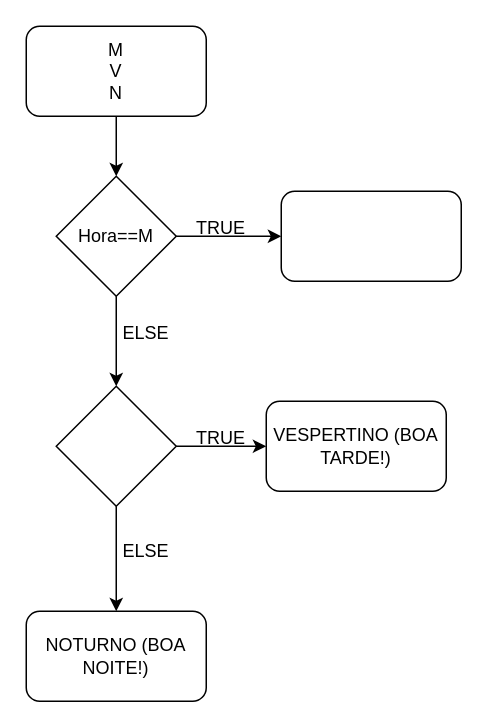
Image size: 488x728. Some labels were removed from this diagram. Here are the shapes that lost their labels. From the top down, the box of each, then its label:
(280, 190, 461, 281): MATUTINO (BOM DIA!)
(55, 385, 176, 506): HORA==V
